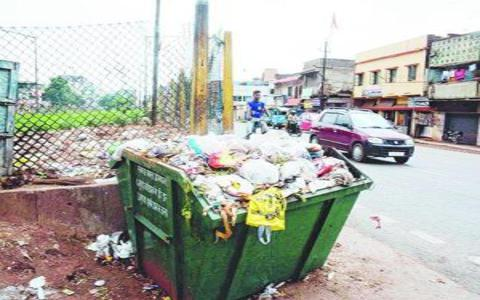overflowing garbage: (109, 125, 370, 296)
